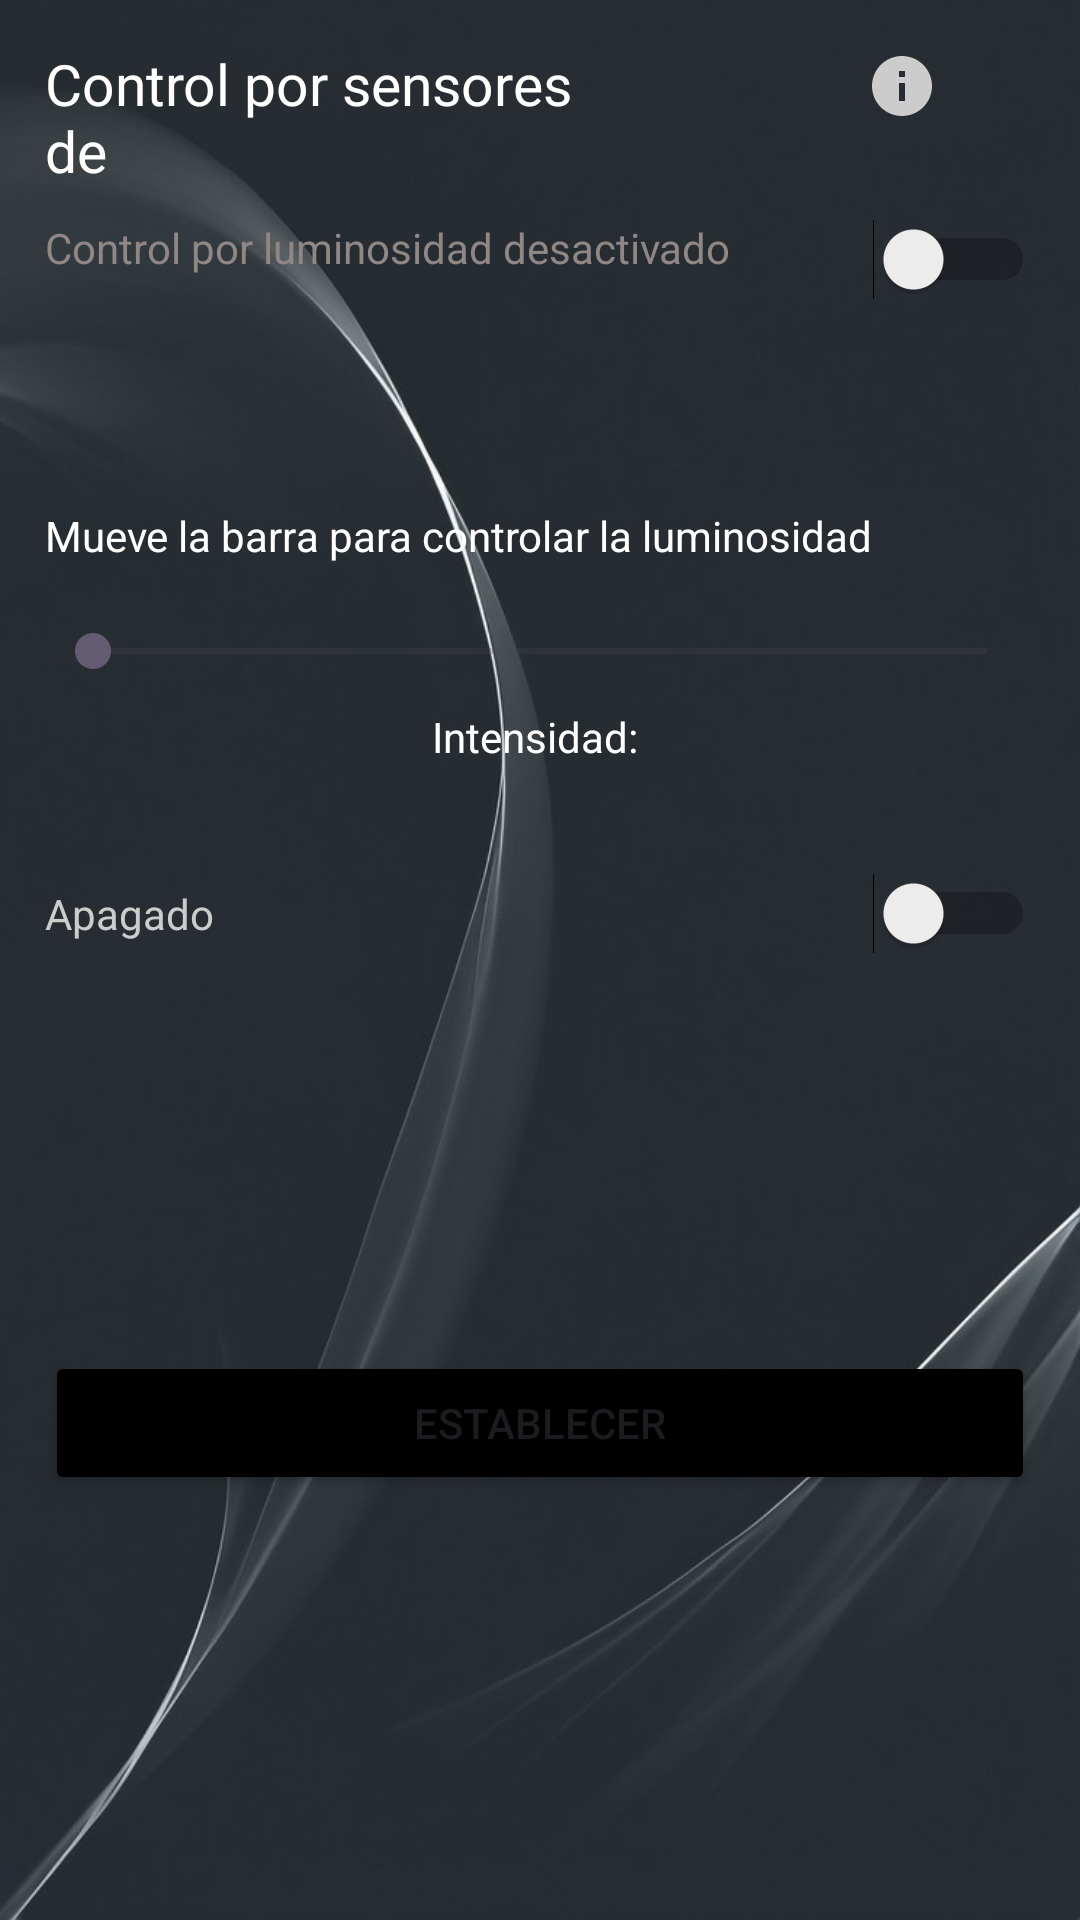

Point at icon controls on the screen. Image size 1080 x 1920, points as point (x, y).
info: point (902, 86)
